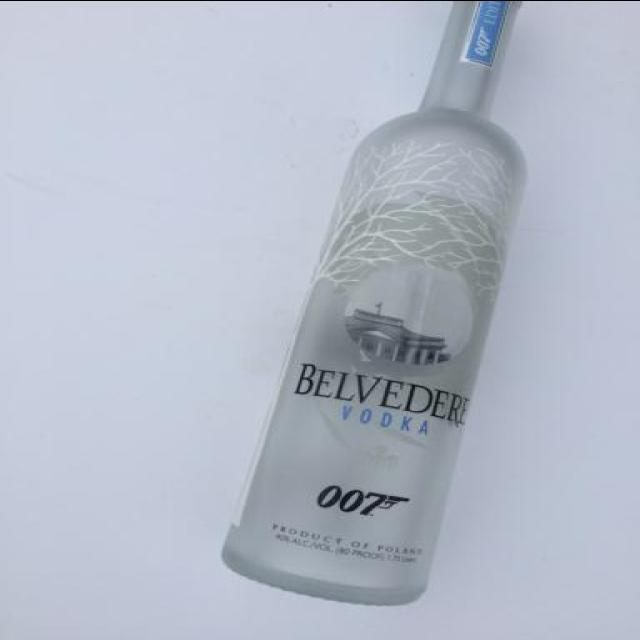glass: (218, 4, 534, 606)
